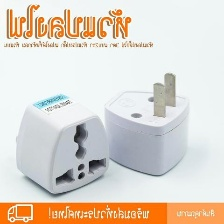three_eye_plug: (11, 86, 121, 200), (98, 67, 195, 182)
